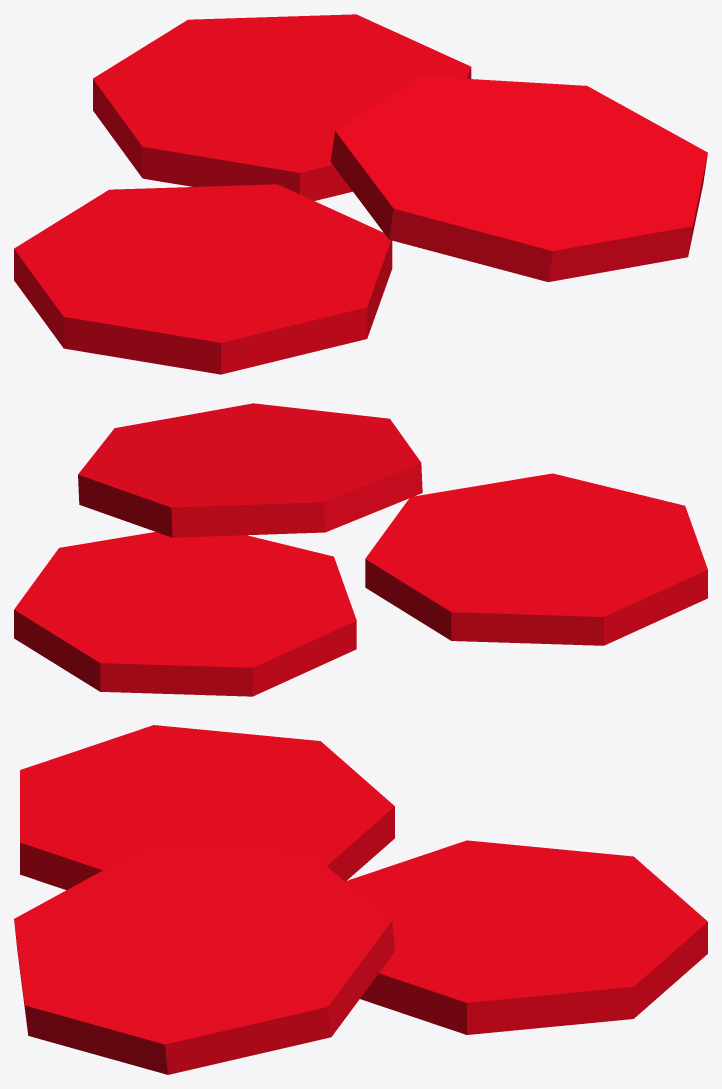
The model's file is Tomatoes.fbx.
The picture shows the model from 3 angles, top to bottom: view 1: azimuth 30°, elevation 25°; view 2: azimuth 150°, elevation 25°; view 3: azimuth 270°, elevation 25°; orthographic projection. The views are drawn at different scales.
Visible parts, largest first — view 1: Tomatoes; view 2: Tomatoes; view 3: Tomatoes.
Boxes of the visible parts, left/top/right/bottom form: Tomatoes: left=14, top=14, right=707, bottom=374; Tomatoes: left=14, top=403, right=707, bottom=696; Tomatoes: left=14, top=725, right=707, bottom=1074.
Bounding box in the file's own units: 193 × 22.01 × 176.
